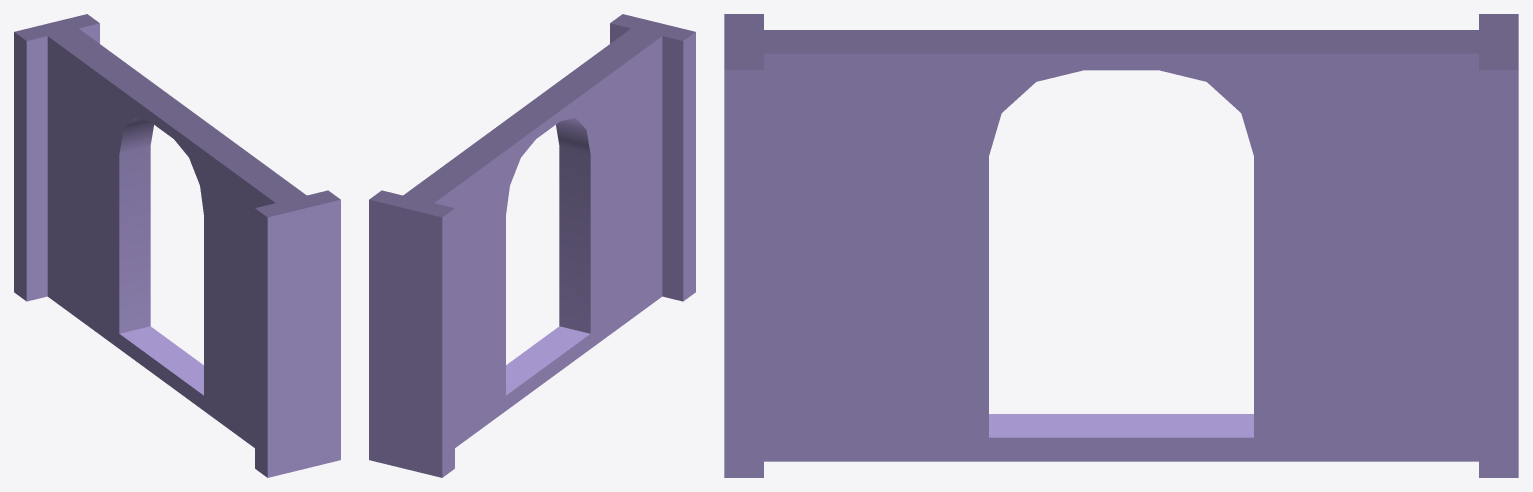
The model's file is Wall.fbx.
The picture shows the model from 3 angles, left to right: view 1: azimuth 30°, elevation 25°; view 2: azimuth 150°, elevation 25°; view 3: azimuth 270°, elevation 25°; orthographic projection. The views are drawn at different scales.
Visible parts, largest first — view 1: Cube.089; view 2: Cube.089; view 3: Cube.089.
Boxes of the visible parts, x1,y1,x2,y2 form: Cube.089: [14, 14, 340, 477]; Cube.089: [369, 14, 695, 477]; Cube.089: [724, 14, 1518, 477].
Size of the model in its own units: 100 by 340 by 600.
